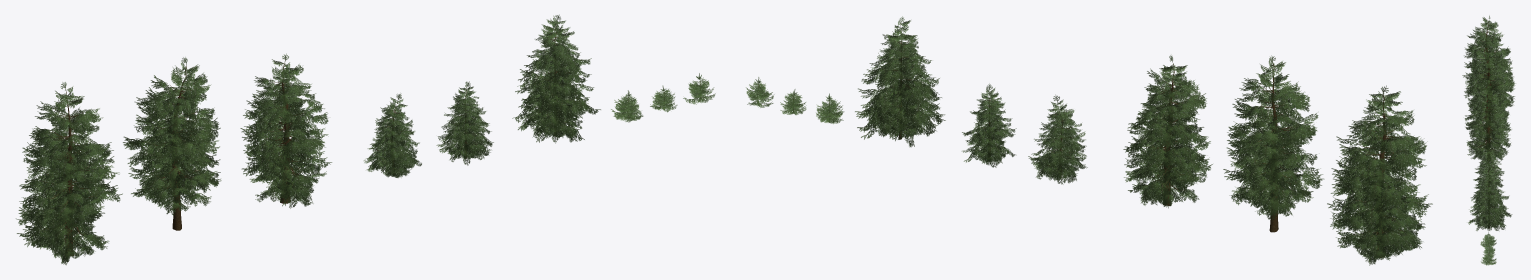
3 views of the same model, side by side, from view 1: azimuth 30°, elevation 25°; view 2: azimuth 150°, elevation 25°; view 3: azimuth 270°, elevation 25° (orthographic). The views are drawn at different scales.
Parts seen in each view (by area): view 1: Christmas tree_LOD0, Christmas tree_2_LOD0, Christmas tree_3_LOD0, Christmas tree_6_LOD0, Christmas tree_4_LOD0, Christmas tree_5_LOD0, Christmas tree_7_LOD0, Christmas tree_9_LOD0, Christmas tree_8_LOD0; view 2: Christmas tree_LOD0, Christmas tree_2_LOD0, Christmas tree_3_LOD0, Christmas tree_6_LOD0, Christmas tree_4_LOD0, Christmas tree_5_LOD0, Christmas tree_7_LOD0, Christmas tree_9_LOD0, Christmas tree_8_LOD0; view 3: Christmas tree_3_LOD0, Christmas tree_2_LOD0, Christmas tree_6_LOD0, Christmas tree_LOD0, Christmas tree_4_LOD0, Christmas tree_7_LOD0, Christmas tree_9_LOD0, Christmas tree_5_LOD0, Christmas tree_8_LOD0.
Part boxes in pixels (x1=…): Christmas tree_LOD0: x1=16, y1=82, x2=122, y2=265; Christmas tree_2_LOD0: x1=123, y1=57, x2=221, y2=230; Christmas tree_3_LOD0: x1=240, y1=53, x2=331, y2=208; Christmas tree_6_LOD0: x1=512, y1=14, x2=600, y2=143; Christmas tree_4_LOD0: x1=364, y1=93, x2=421, y2=177; Christmas tree_5_LOD0: x1=436, y1=81, x2=493, y2=165; Christmas tree_7_LOD0: x1=611, y1=90, x2=643, y2=122; Christmas tree_9_LOD0: x1=683, y1=73, x2=715, y2=104; Christmas tree_8_LOD0: x1=650, y1=85, x2=677, y2=112; Christmas tree_LOD0: x1=1327, y1=85, x2=1432, y2=265; Christmas tree_2_LOD0: x1=1223, y1=55, x2=1324, y2=232; Christmas tree_3_LOD0: x1=1123, y1=55, x2=1212, y2=208; Christmas tree_6_LOD0: x1=855, y1=16, x2=945, y2=147; Christmas tree_4_LOD0: x1=1028, y1=95, x2=1087, y2=184; Christmas tree_5_LOD0: x1=962, y1=83, x2=1016, y2=167; Christmas tree_7_LOD0: x1=816, y1=93, x2=844, y2=123; Christmas tree_9_LOD0: x1=746, y1=77, x2=774, y2=107; Christmas tree_8_LOD0: x1=780, y1=89, x2=806, y2=114; Christmas tree_3_LOD0: x1=1465, y1=83, x2=1511, y2=160; Christmas tree_2_LOD0: x1=1464, y1=45, x2=1515, y2=122; Christmas tree_6_LOD0: x1=1468, y1=165, x2=1512, y2=230; Christmas tree_LOD0: x1=1462, y1=15, x2=1514, y2=103; Christmas tree_4_LOD0: x1=1473, y1=146, x2=1504, y2=186; Christmas tree_7_LOD0: x1=1480, y1=232, x2=1496, y2=247; Christmas tree_9_LOD0: x1=1481, y1=250, x2=1496, y2=265; Christmas tree_5_LOD0: x1=1474, y1=166, x2=1501, y2=207; Christmas tree_8_LOD0: x1=1483, y1=243, x2=1495, y2=255.
Size of what is drawn, in the model's own units: 38.28 by 9.31 by 5.12.
2 materials, 2 textured.
